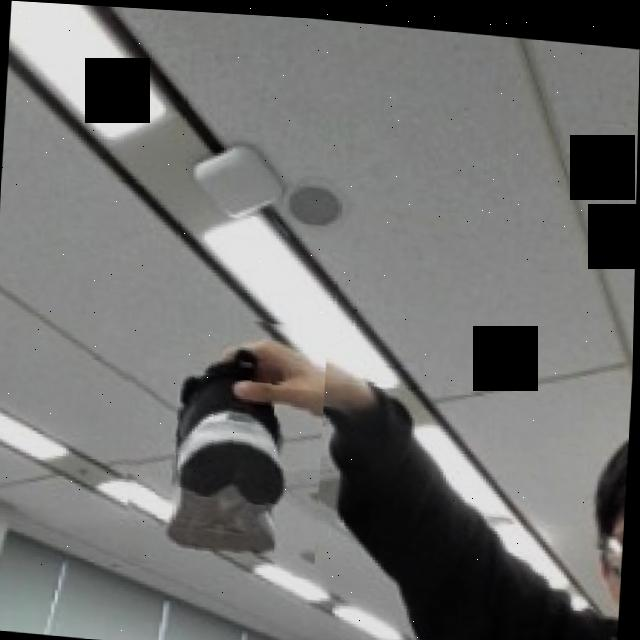shoe: (114, 299, 329, 575)
